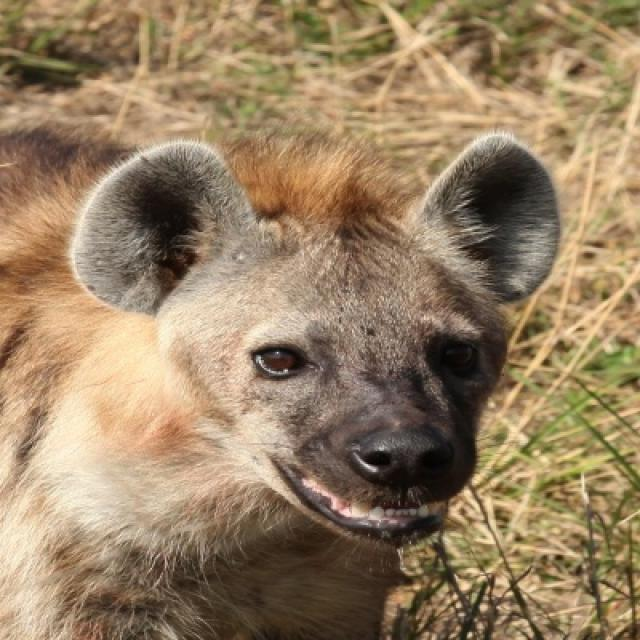hyena: (0, 128, 562, 638)
